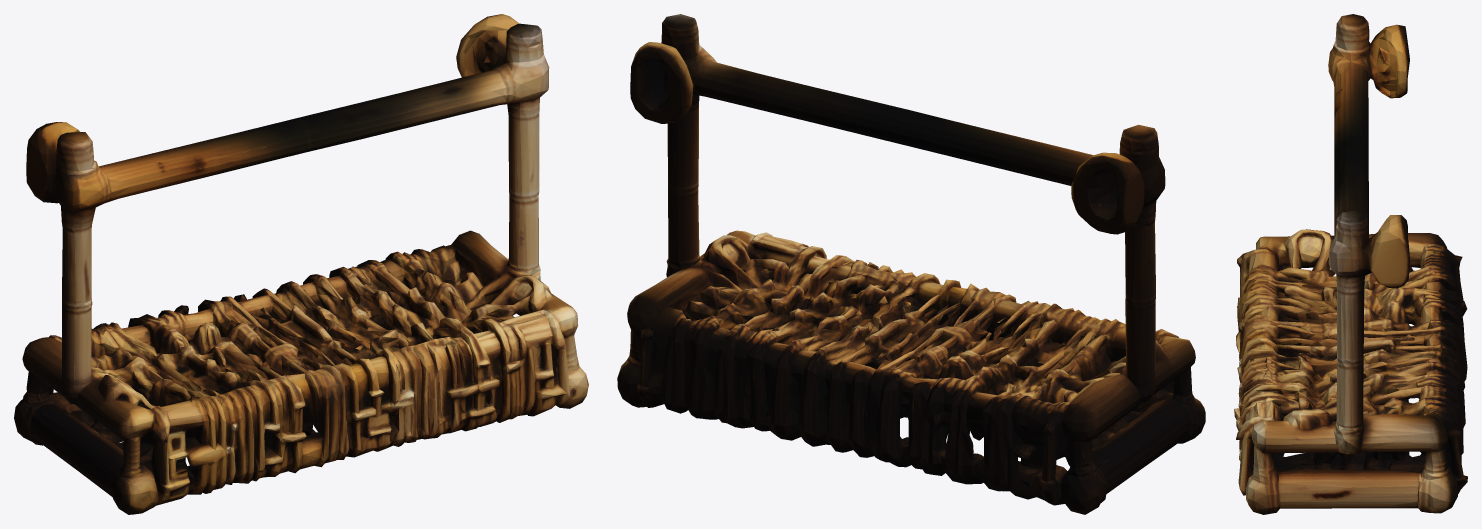
The model's file is woven-bamboo-towel-rack-vintage.jpeg.glb.
3 views of the same model, side by side, from view 1: azimuth 30°, elevation 25°; view 2: azimuth 150°, elevation 25°; view 3: azimuth 270°, elevation 25° (orthographic). The views are drawn at different scales.
Parts seen in each view (by area): view 1: world; view 2: world; view 3: world.
Boxes of the visible parts, x1,y1,x2,y2 form: world: (14,14,588,514); world: (617,14,1205,514); world: (1234,14,1467,514).
Bounding box in the file's own units: 1 × 0.6754 × 0.4719.
Materials: 1 (1 with a texture image).
